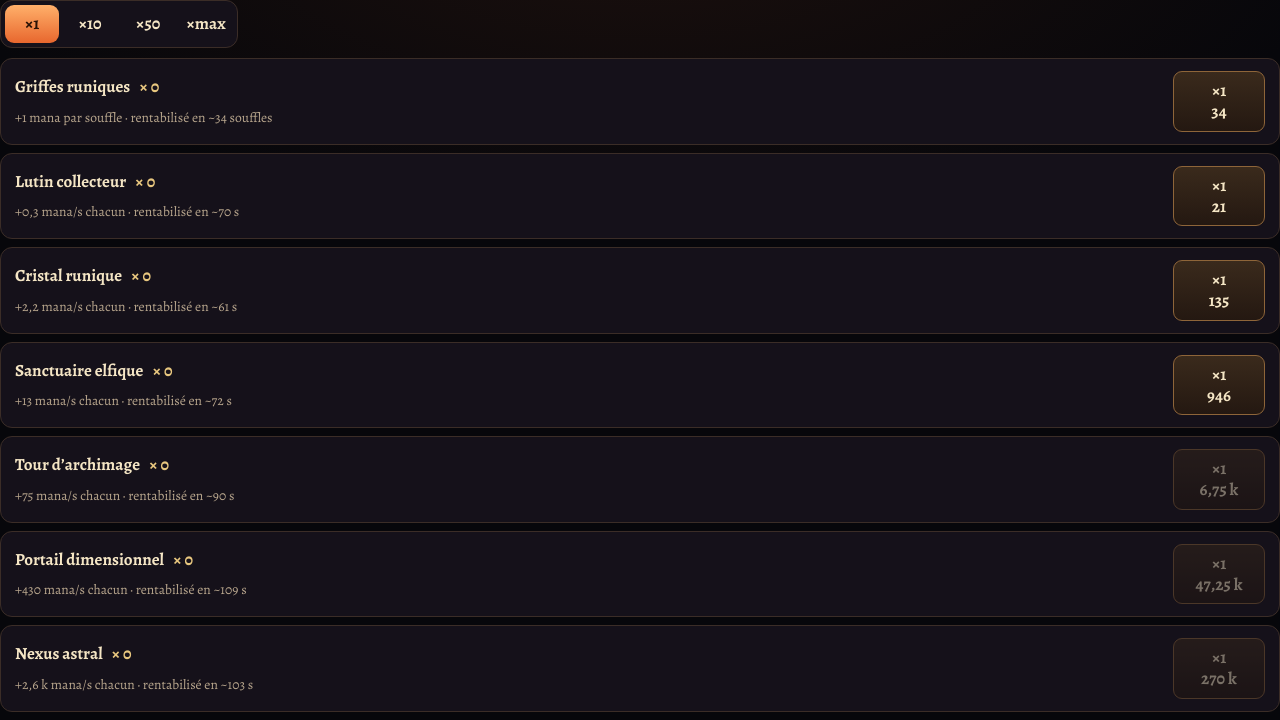
Test: UpgradeList › achète une amélioration et met à jour le compteur
This screenshot has width=1280, height=720.
Click the button "×1 21" at (1219, 196), box [1173, 166, 1265, 226]
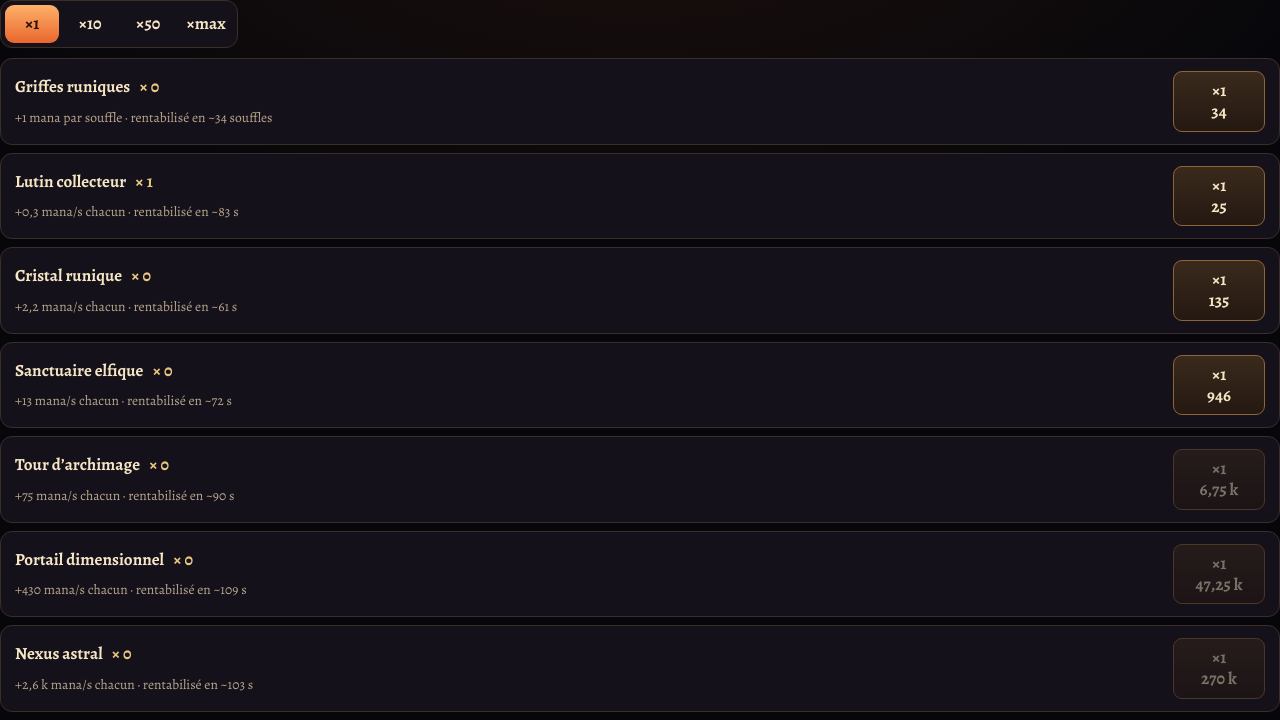
Expected: the list item "Lutin collecteur" shows "× 1", [135, 170, 153, 193]
